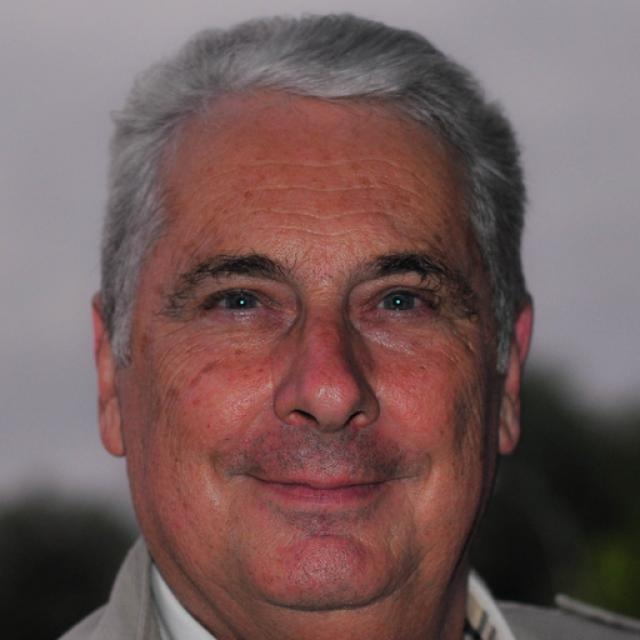Pigmentation: (165, 343, 273, 408)
Wrinkle: (196, 146, 450, 211), (252, 201, 408, 224), (247, 178, 386, 196), (266, 223, 364, 237)
